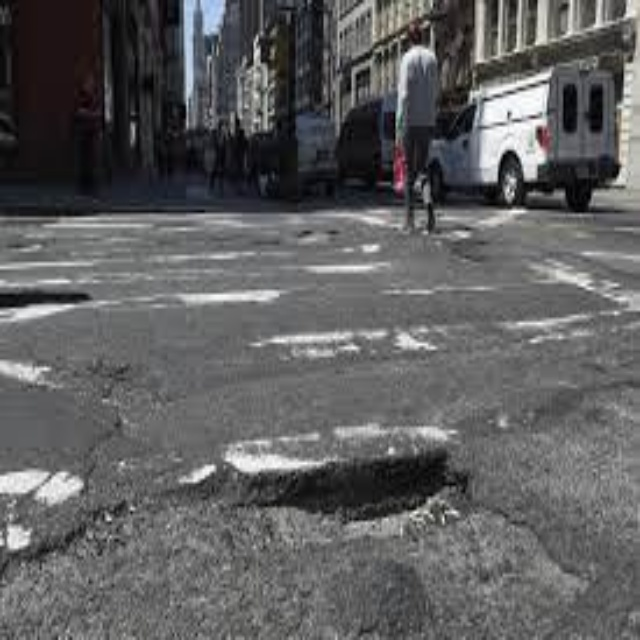pothole: (242, 427, 465, 525)
